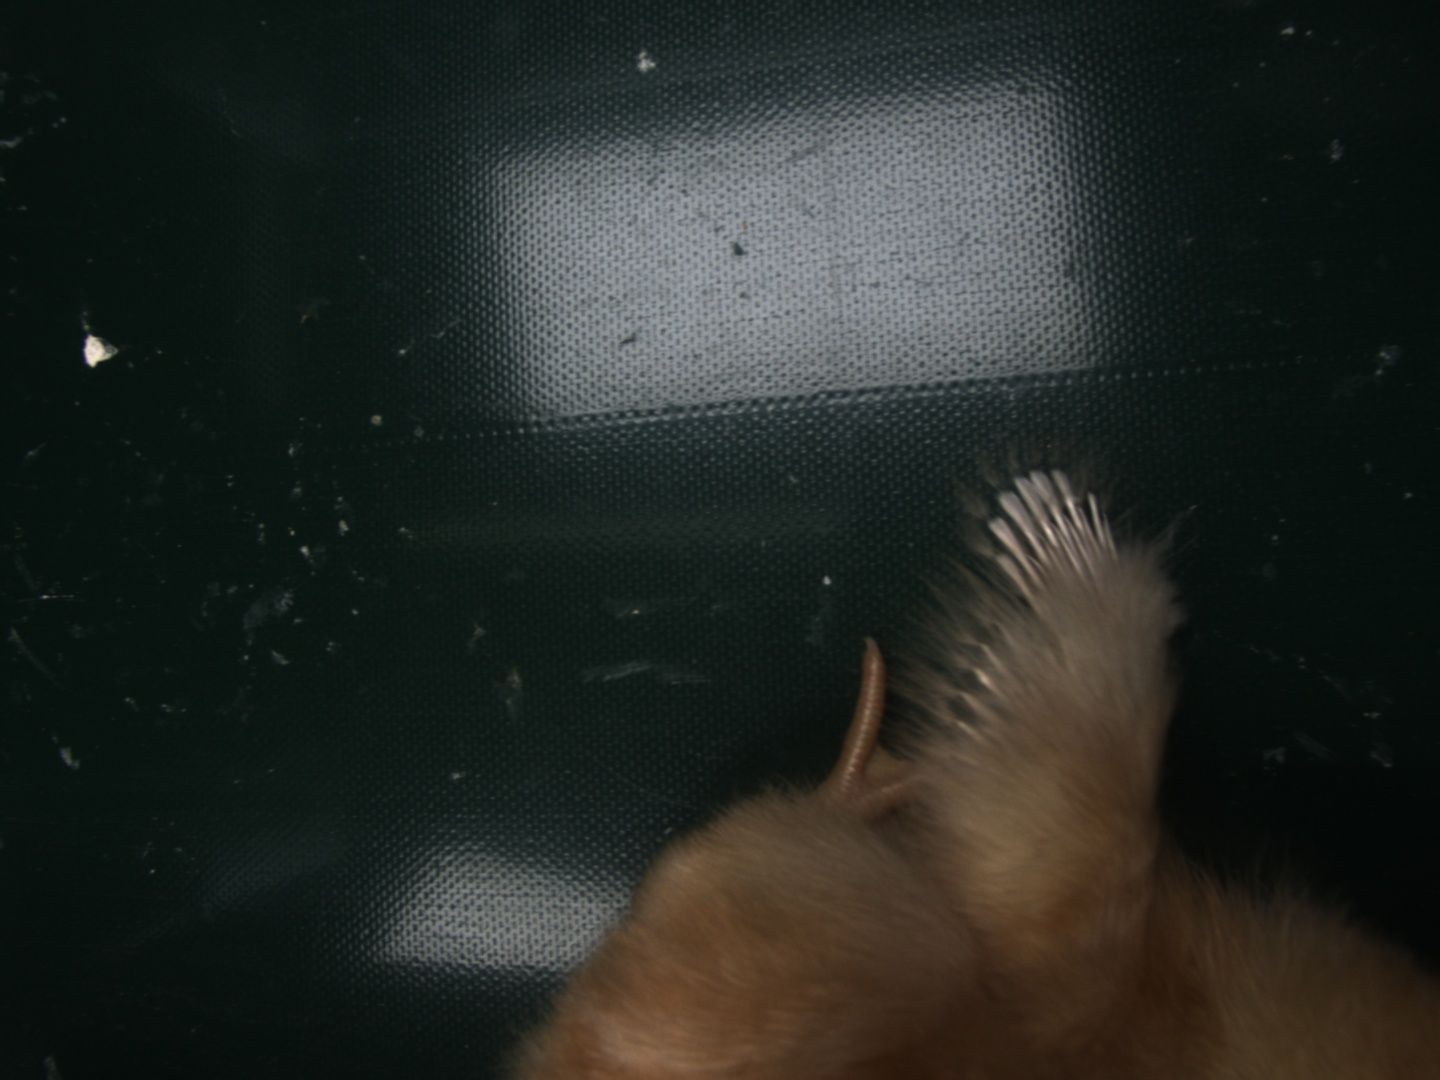female: (974, 467, 1130, 616)
